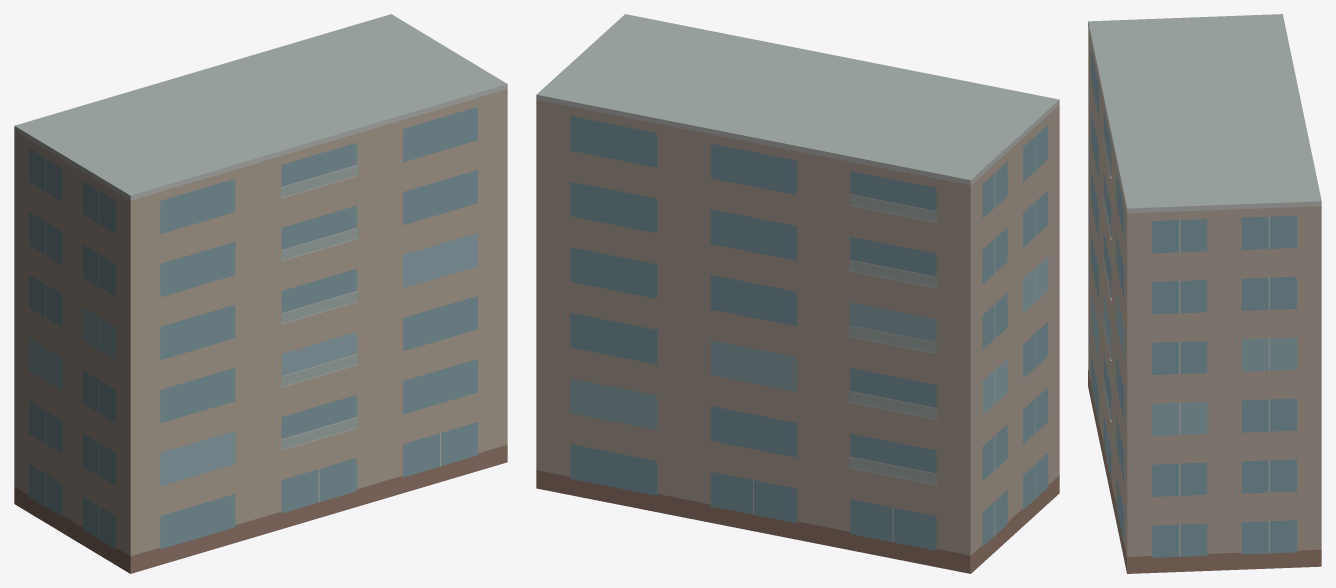
File: survey-upis-32640863.glb
The picture shows the model from 3 angles, left to right: view 1: azimuth 30°, elevation 25°; view 2: azimuth 150°, elevation 25°; view 3: azimuth 270°, elevation 25°; orthographic projection. The views are drawn at different scales.
Visible parts, largest first — view 1: survey-upis-32640863.tmp; view 2: survey-upis-32640863.tmp; view 3: survey-upis-32640863.tmp.
Boxes of the visible parts, bbox=[...] form: survey-upis-32640863.tmp: bbox=[14, 14, 507, 573]; survey-upis-32640863.tmp: bbox=[536, 14, 1059, 573]; survey-upis-32640863.tmp: bbox=[1088, 14, 1321, 573].
Size of the model in its own units: 20.9 by 18.3 by 10.61.
